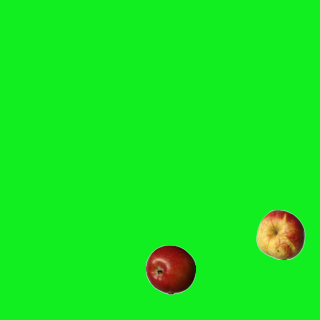Apple Braeburn: (145, 244, 195, 294)
Apple Red Yellow 1: (255, 209, 305, 259)
